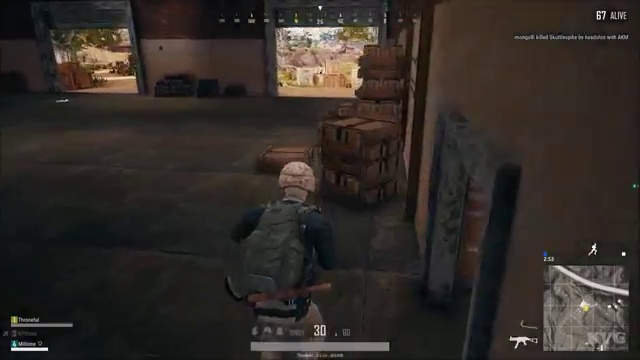Player: (199, 161, 374, 303)
